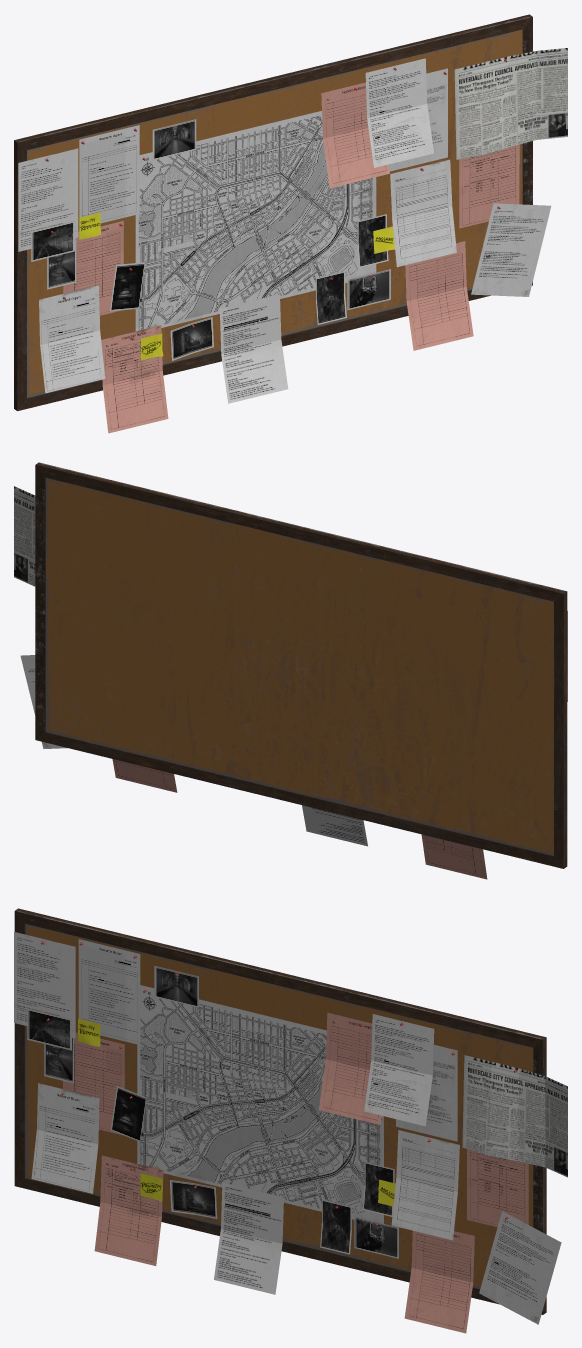
File: corkboard.glb
3 views of the same model, one above another, from view 1: azimuth 30°, elevation 25°; view 2: azimuth 150°, elevation 25°; view 3: azimuth 330°, elevation 25° (orthographic). The views are drawn at different scales.
Visible parts, largest first — view 1: CorkBoard_Paper_A, CorkBoard_map_A, CorkBoard_Base_A, CorkBoard_Photo_A, CorkBoard_StickyNote_A; view 2: CorkBoard_Base_A, CorkBoard_Paper_A; view 3: CorkBoard_Paper_A, CorkBoard_map_A, CorkBoard_Base_A, CorkBoard_Photo_A, CorkBoard_StickyNote_A.
Boxes of the visible parts, x1=… form: CorkBoard_Paper_A: x1=18, y1=48, x2=567, y2=433; CorkBoard_map_A: x1=135, y1=111, x2=376, y2=331; CorkBoard_Base_A: x1=14, y1=14, x2=532, y2=411; CorkBoard_Photo_A: x1=31, y1=119, x2=390, y2=360; CorkBoard_StickyNote_A: x1=79, y1=212, x2=394, y2=360; CorkBoard_Base_A: x1=35, y1=462, x2=567, y2=868; CorkBoard_Paper_A: x1=14, y1=486, x2=567, y2=879; CorkBoard_Paper_A: x1=14, y1=932, x2=567, y2=1333; CorkBoard_map_A: x1=137, y1=985, x2=383, y2=1223; CorkBoard_Base_A: x1=14, y1=908, x2=546, y2=1314; CorkBoard_Photo_A: x1=27, y1=965, x2=398, y2=1258; CorkBoard_StickyNote_A: x1=78, y1=1019, x2=395, y2=1206.
Bounding box in the file's own units: 1.9 × 1.02 × 0.0704.
1 material, 1 textured.
